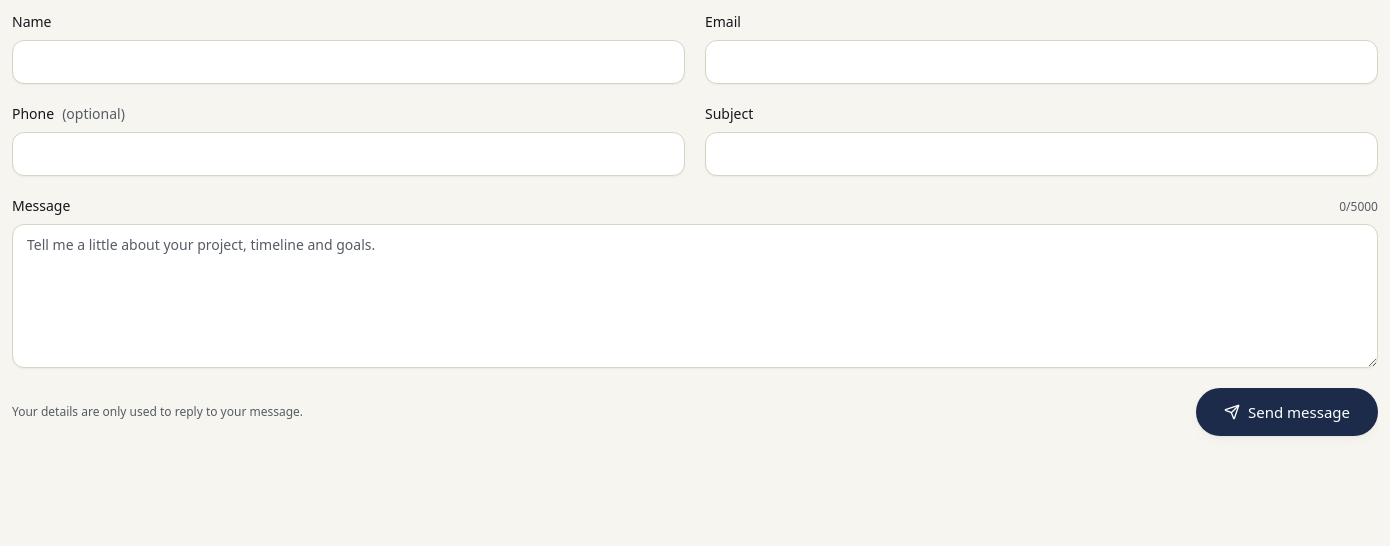
Test: ContactForm › maps server-side validation errors onto fields
Type "Ada Lovelace" into the field labelled "Name" at point(348, 62), box [12, 40, 685, 84]
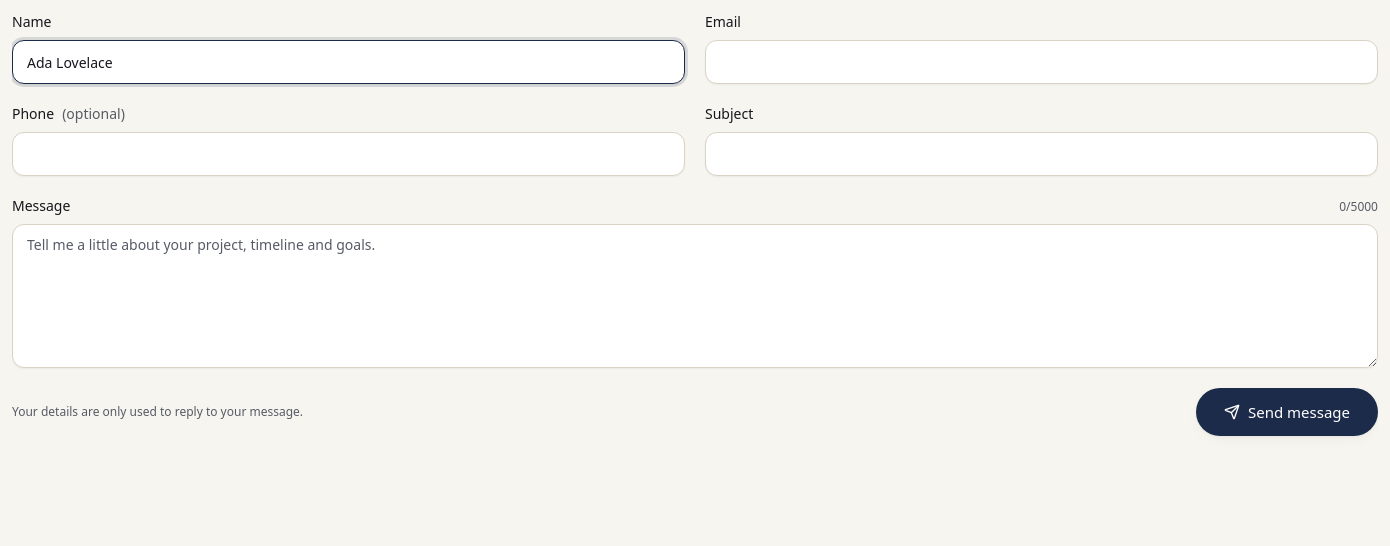
Type "ada@example.com" into the field labelled "Email" at point(1042, 62), box [705, 40, 1378, 84]
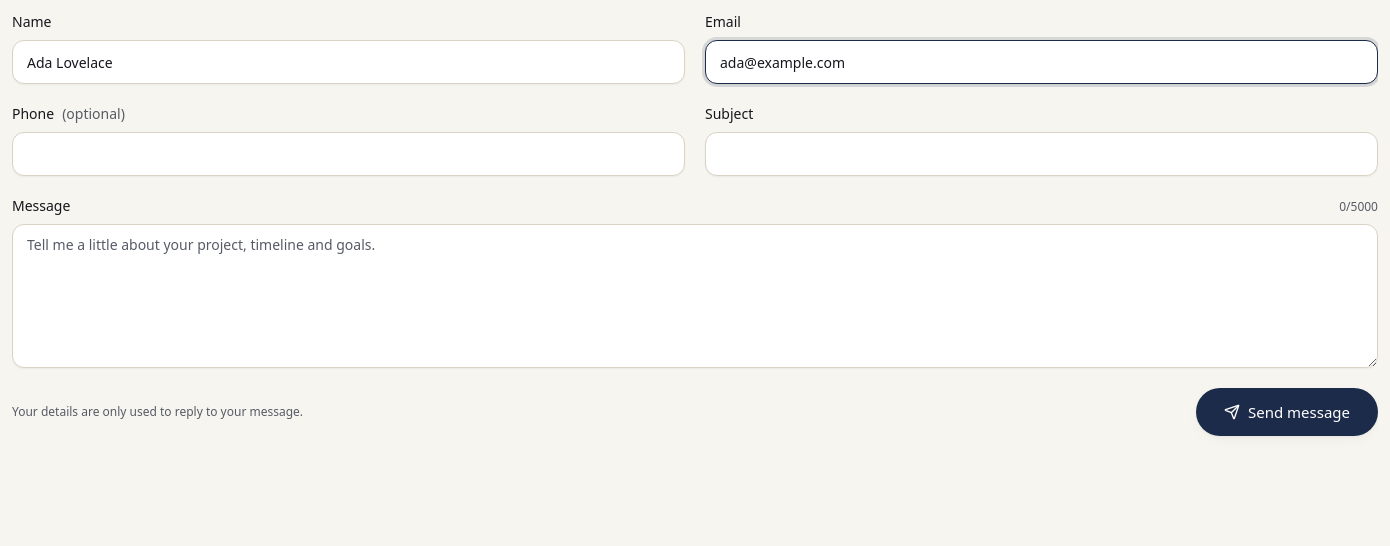
Type "+44 20 7946 0958" into the field labelled "Phone (optional)" at point(348, 154), box [12, 132, 685, 176]
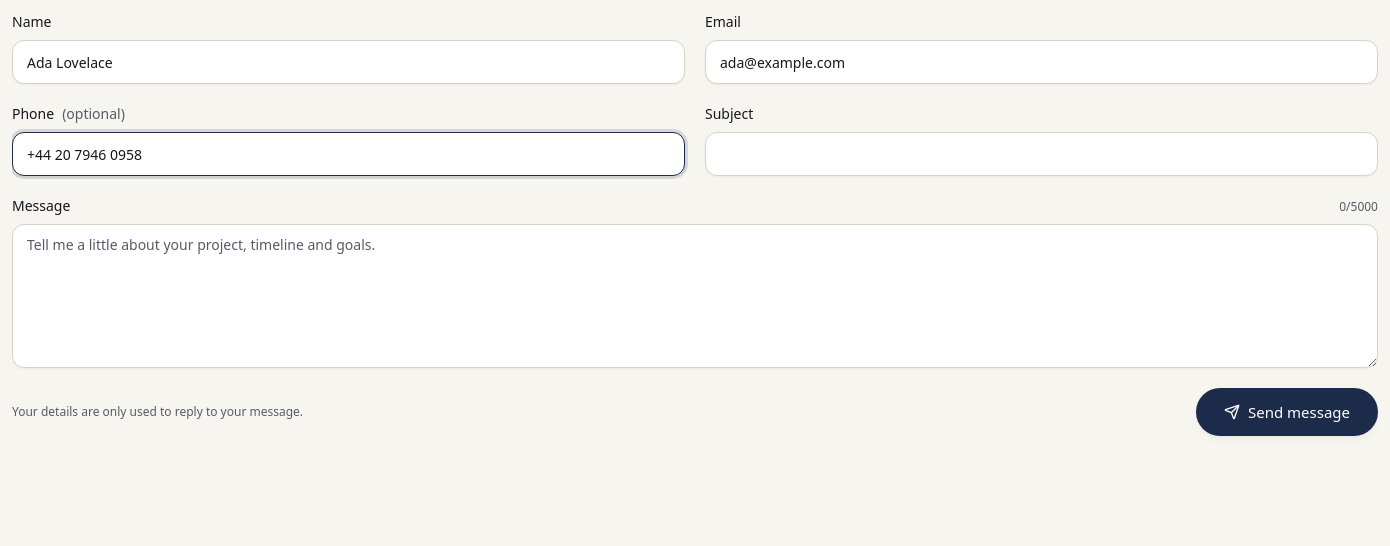
Type "New website" into the field labelled "Subject" at point(1042, 154), box [705, 132, 1378, 176]
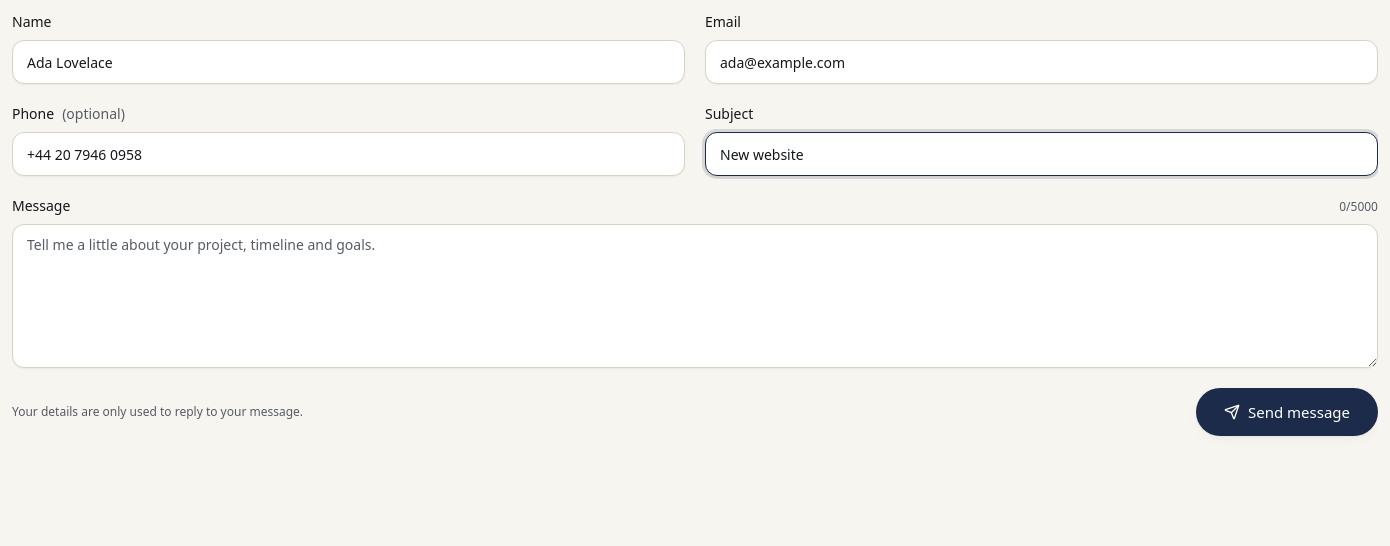
Type "I would love to discuss a new website for our company." into the text box labelled "Message" at point(695, 296), box [12, 224, 1378, 368]
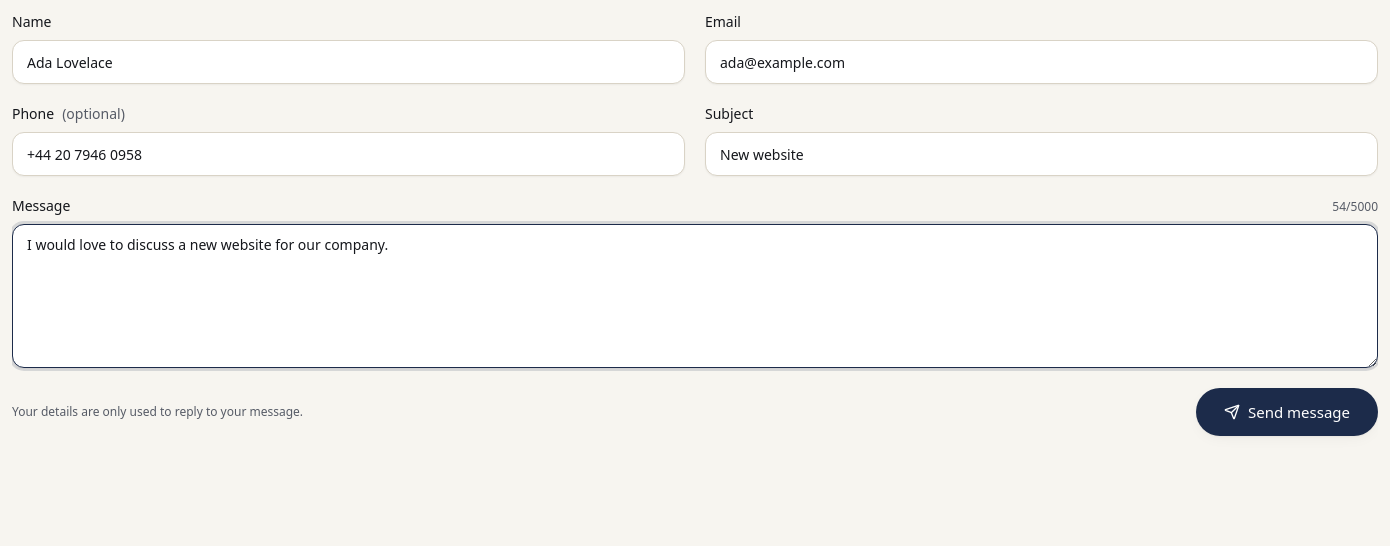
Click the button "Send message" at point(1287, 412), box [1196, 388, 1378, 436]
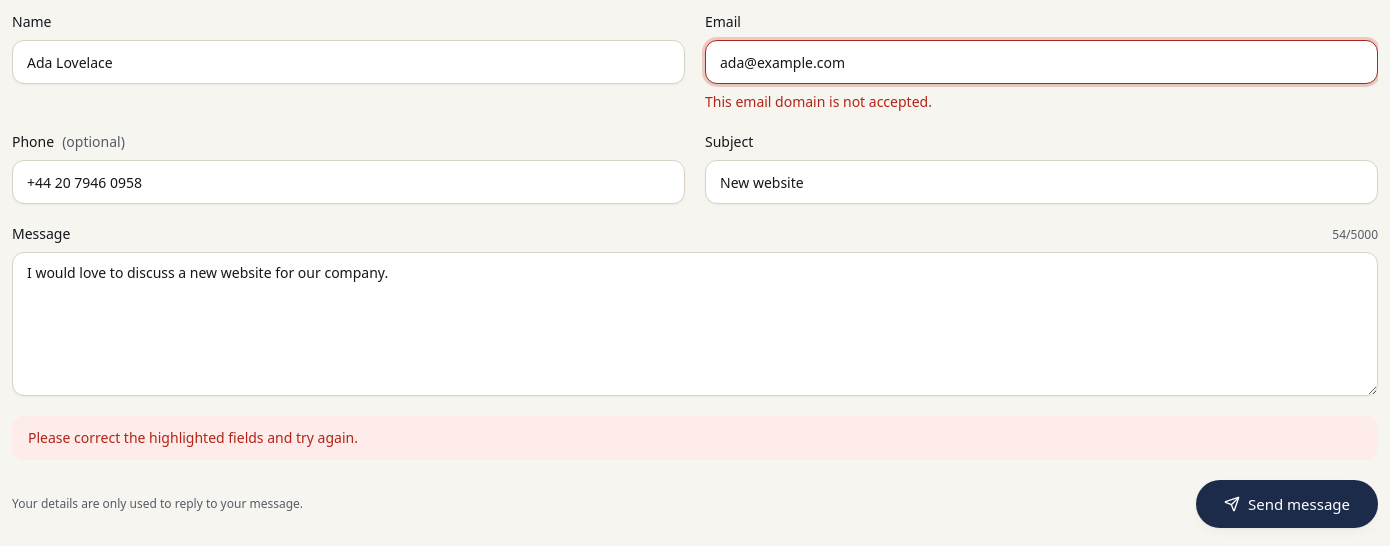
Check: the text "This email domain is not accepted." is shown, box [705, 92, 932, 111]
Check: the message shows "correct the highlighted fields", box [28, 428, 358, 447]
